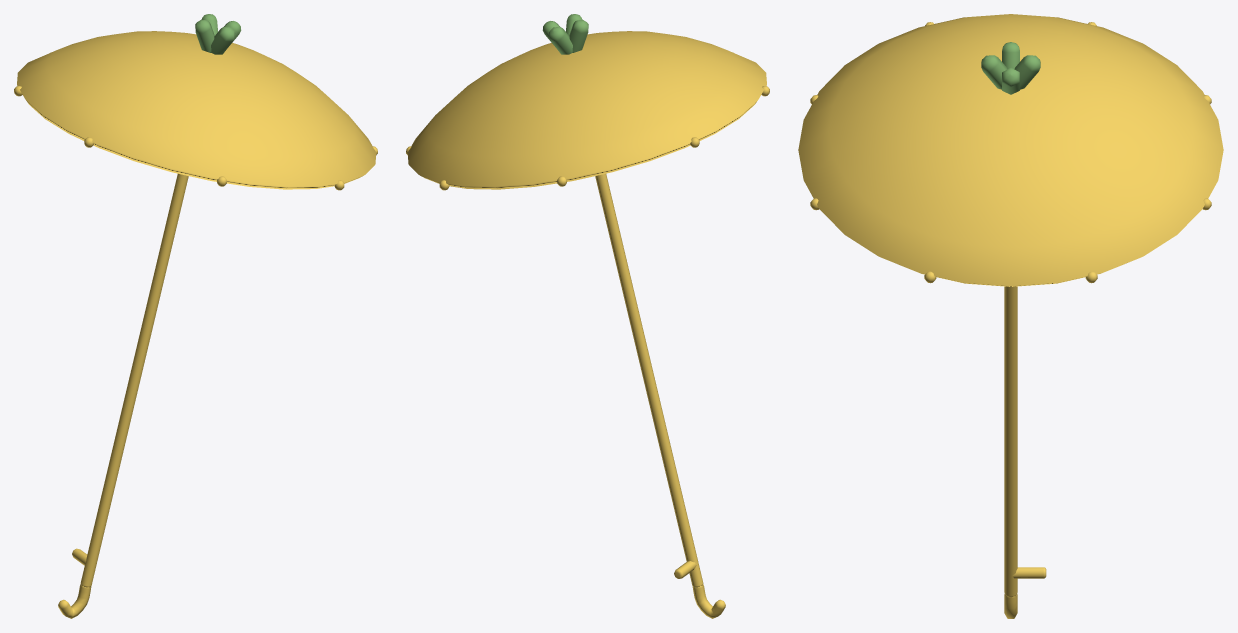
File: pineapple_umbrella.glb
3 renders of one model, left to right at view 1: azimuth 30°, elevation 25°; view 2: azimuth 150°, elevation 25°; view 3: azimuth 270°, elevation 25°, orthographic. The views are drawn at different scales.
Visible parts, largest first — view 1: pineapple_umbrella_ArmR; view 2: pineapple_umbrella_ArmR; view 3: pineapple_umbrella_ArmR.
Boxes of the visible parts, x1=… form: pineapple_umbrella_ArmR: x1=14, y1=14, x2=377, y2=618; pineapple_umbrella_ArmR: x1=406, y1=14, x2=769, y2=618; pineapple_umbrella_ArmR: x1=798, y1=14, x2=1223, y2=618.
Size of the model in its own units: 0.8703 by 1.52 by 0.9.
